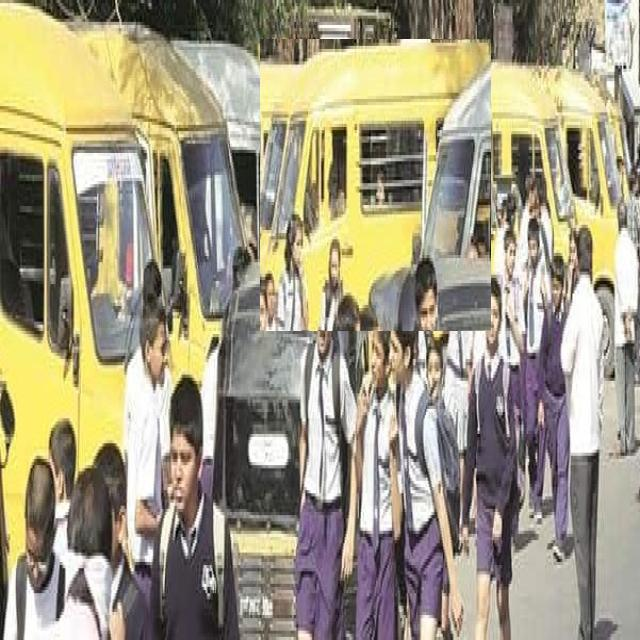autorickshaw: (212, 257, 380, 636)
bus: (0, 4, 151, 566), (260, 40, 491, 331)
